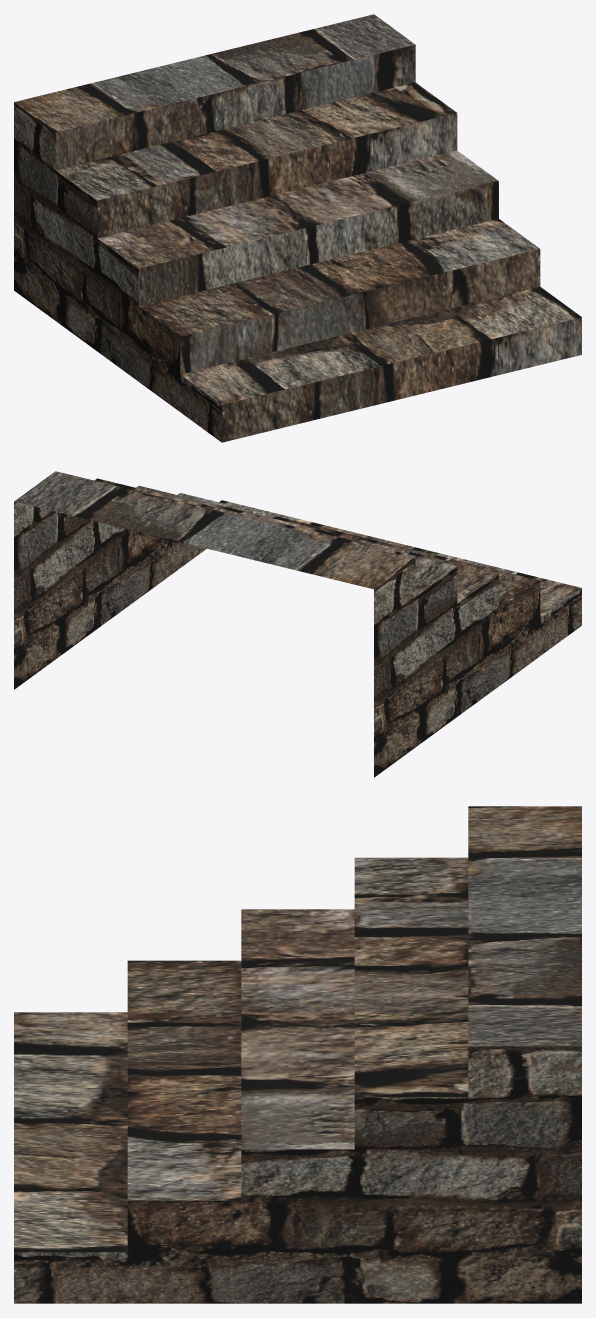
Rendered from Stairs.fbx.
3 views of the same model, one above another, from view 1: azimuth 30°, elevation 25°; view 2: azimuth 150°, elevation 25°; view 3: azimuth 270°, elevation 25° (orthographic). The views are drawn at different scales.
Parts seen in each view (by area): view 1: Stairs; view 2: Stairs; view 3: Stairs.
Boxes of the visible parts, bbox=[...] form: Stairs: bbox=[14, 14, 581, 442]; Stairs: bbox=[14, 471, 581, 777]; Stairs: bbox=[14, 806, 581, 1303].
Bounding box in the file's own units: 200 × 100 × 200.
Materials: 1 (1 with a texture image).
